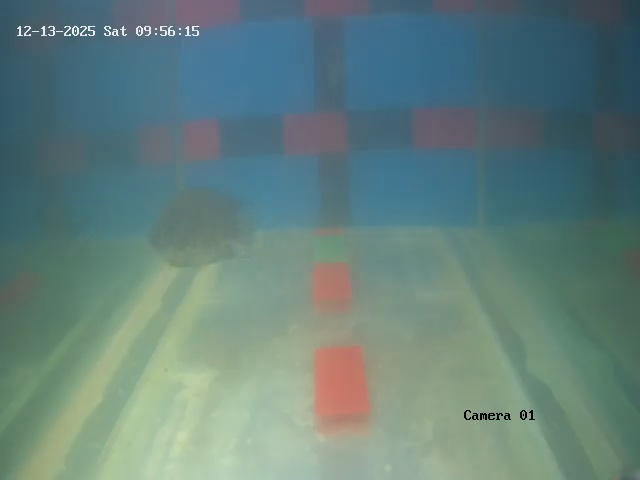fish: (131, 182, 264, 277)
